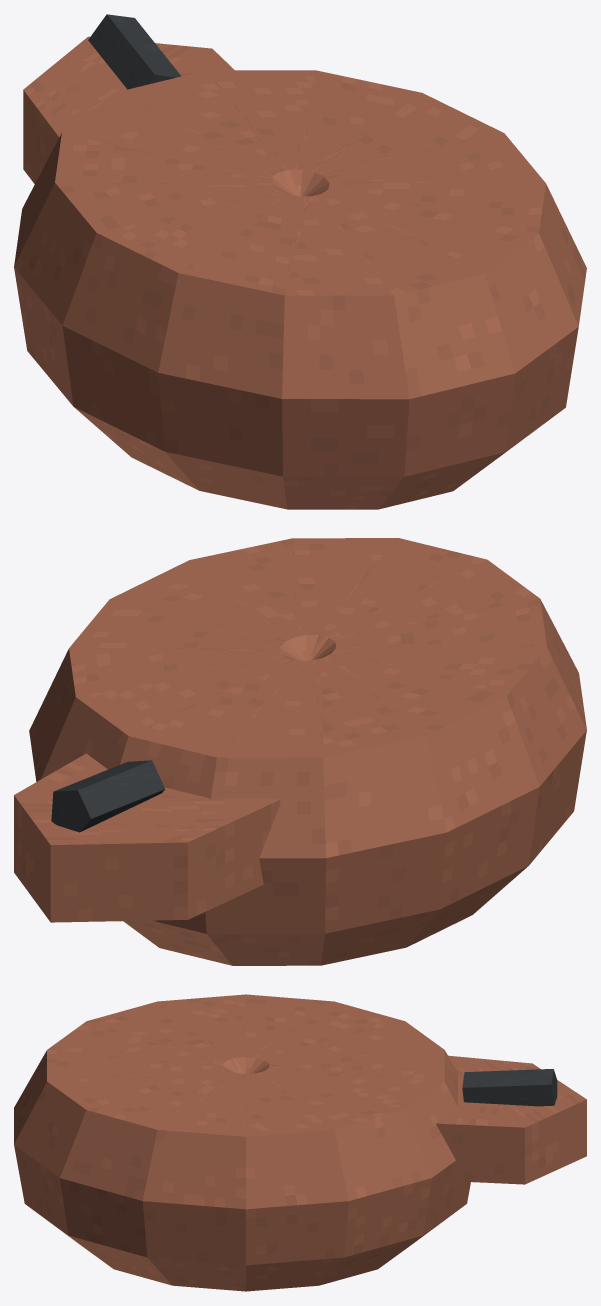
Rendered from oil_lamp_clay.glb.
3 renders of one model, top to bottom at view 1: azimuth 30°, elevation 25°; view 2: azimuth 150°, elevation 25°; view 3: azimuth 270°, elevation 25°, orthographic. The views are drawn at different scales.
Parts seen in each view (by area): view 1: block_wheel-thrown clay reservoir, block_pinched wick spout, block_unlit wick 0; view 2: block_wheel-thrown clay reservoir, block_pinched wick spout, block_unlit wick 0; view 3: block_wheel-thrown clay reservoir, block_pinched wick spout, block_unlit wick 0.
Boxes of the visible parts, <box> form: block_wheel-thrown clay reservoir: <box>14,70,586,509</box>; block_pinched wick spout: <box>23,36,234,183</box>; block_unlit wick 0: <box>88,14,181,89</box>; block_wheel-thrown clay reservoir: <box>29,538,586,965</box>; block_pinched wick spout: <box>14,753,280,922</box>; block_unlit wick 0: <box>51,760,164,832</box>; block_wheel-thrown clay reservoir: <box>14,994,470,1291</box>; block_pinched wick spout: <box>436,1055,586,1184</box>; block_unlit wick 0: <box>462,1069,557,1106</box>.
Bounding box in the file's own units: 0.0877 × 0.0422 × 0.1279.
1 material, 1 textured.
